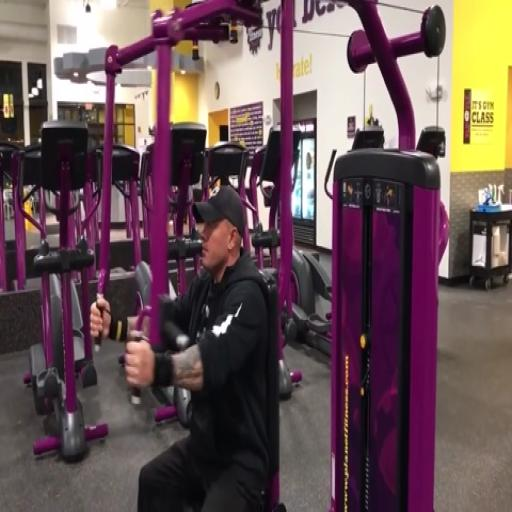exercise: (88, 184, 282, 510)
